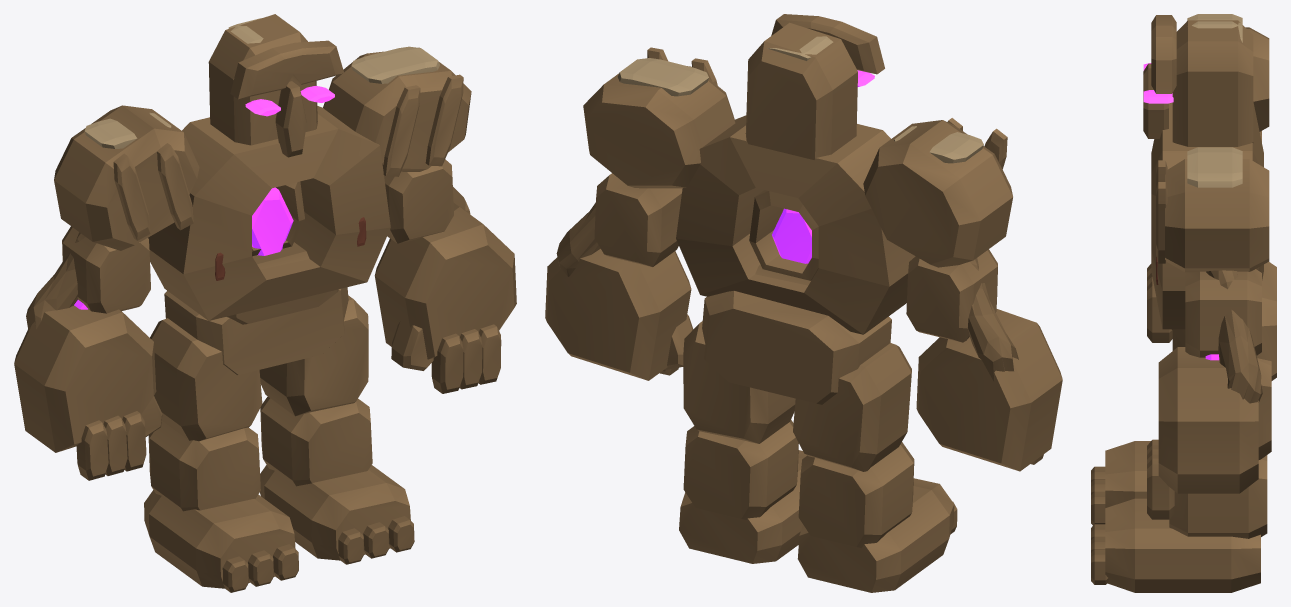
File: SAND_HEX_GOLEM_Parts.glb
The picture shows the model from 3 angles, left to right: view 1: azimuth 30°, elevation 25°; view 2: azimuth 150°, elevation 25°; view 3: azimuth 270°, elevation 25°; orthographic projection. The views are drawn at different scales.
Parts seen in each view (by area): view 1: Fracture_Torso, Fracture_Arm.R, Fracture_Arm.L, Fracture_Leg.R, Fracture_Leg.L, Fracture_Head; view 2: Fracture_Torso, Fracture_Arm.R, Fracture_Arm.L, Fracture_Leg.R, Fracture_Leg.L, Fracture_Head; view 3: Fracture_Arm.L, Fracture_Leg.L, Fracture_Head, Fracture_Torso, Fracture_Leg.R, Fracture_Arm.R.
Part boxes in pixels (box(x1,y1,x2,y2)): Fracture_Torso: box(148, 106, 390, 374); Fracture_Arm.R: box(14, 105, 199, 480); Fracture_Arm.L: box(323, 46, 516, 393); Fracture_Leg.R: box(144, 318, 298, 592); Fracture_Leg.L: box(259, 295, 414, 564); Fracture_Head: box(208, 14, 343, 157); Fracture_Torso: box(676, 115, 915, 404); Fracture_Arm.R: box(863, 118, 1062, 471); Fracture_Arm.L: box(545, 47, 735, 380); Fracture_Leg.R: box(793, 343, 957, 592); Fracture_Leg.L: box(679, 321, 806, 563); Fracture_Head: box(745, 14, 884, 159); Fracture_Arm.L: box(1147, 147, 1269, 519); Fracture_Leg.L: box(1091, 358, 1271, 592); Fracture_Head: box(1143, 15, 1253, 146); Fracture_Torso: box(1151, 102, 1276, 380); Fracture_Leg.R: box(1091, 441, 1150, 525); Fracture_Arm.R: box(1147, 14, 1269, 342).
Size of the model in its own units: 2.62 by 2.68 by 0.8725.
